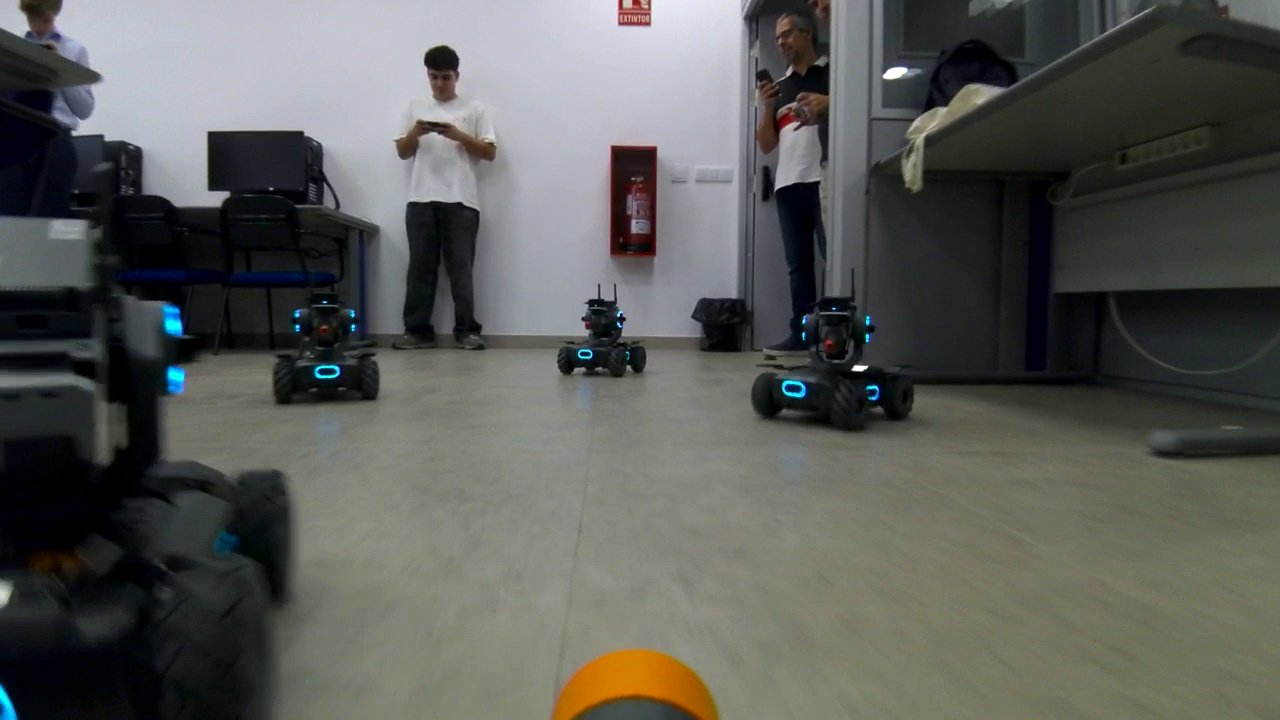robot: (745, 264, 922, 436), (268, 280, 389, 415), (552, 282, 655, 380)
